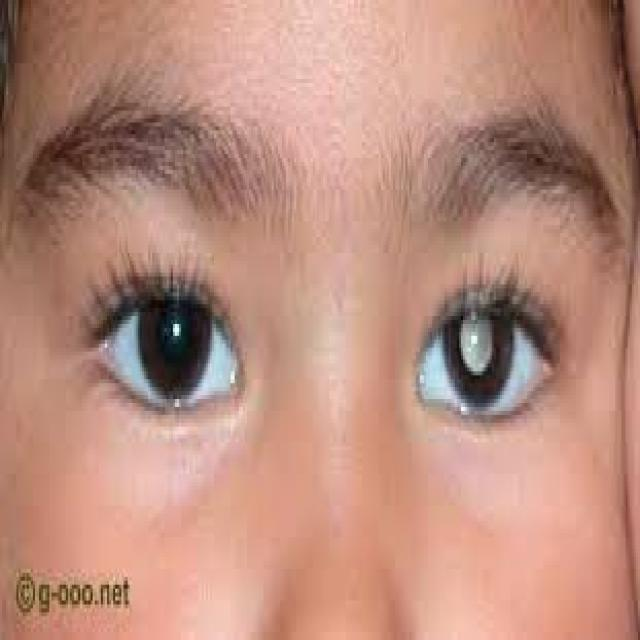reflexo-alterado: (446, 294, 520, 414)
reflexo-normal: (127, 308, 235, 438)
